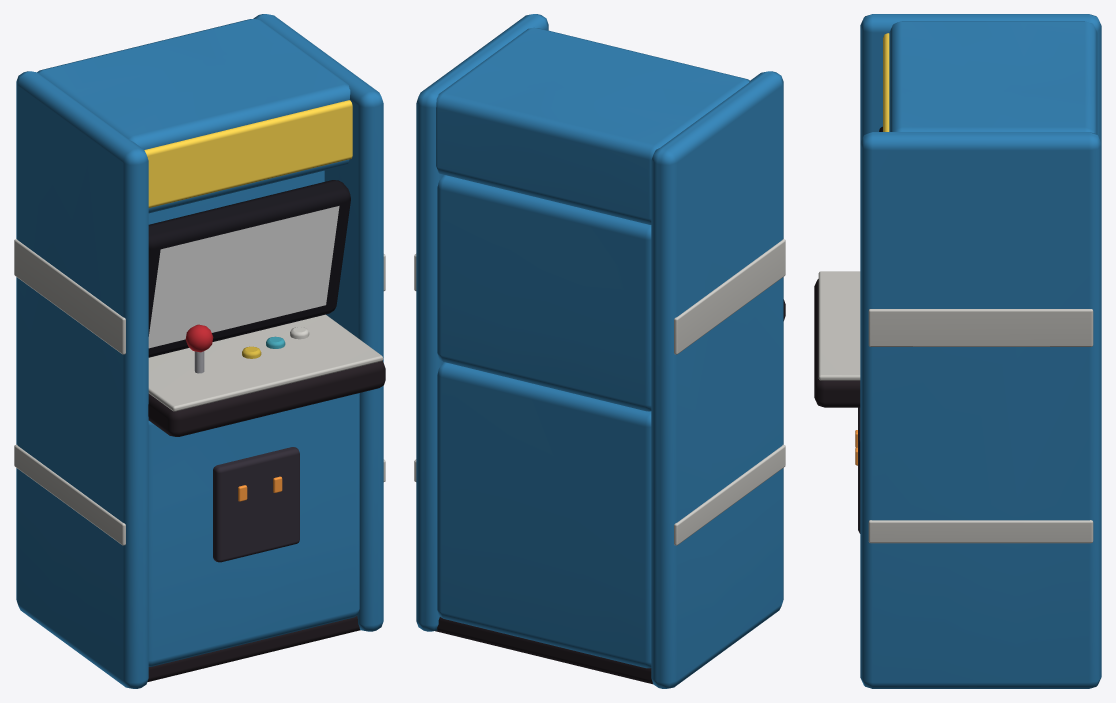
Rendered from furn_cab_surf.glb.
3 renders of one model, left to right at view 1: azimuth 30°, elevation 25°; view 2: azimuth 150°, elevation 25°; view 3: azimuth 270°, elevation 25°, orthographic. The views are drawn at different scales.
Visible parts, largest first — view 1: furn_cab_surf_main, furn_cab_surf_screen, furn_cab_surf_glow; view 2: furn_cab_surf_main; view 3: furn_cab_surf_main, furn_cab_surf_glow.
Part boxes in pixels (<box>): furn_cab_surf_main: <box>14,14,385,688</box>; furn_cab_surf_screen: <box>148,206,339,348</box>; furn_cab_surf_glow: <box>144,100,352,501</box>; furn_cab_surf_main: <box>414,14,785,688</box>; furn_cab_surf_main: <box>814,14,1101,688</box>; furn_cab_surf_glow: <box>855,33,889,465</box>.
Bounding box in the file's own units: 0.752 × 1.47 × 0.69.
